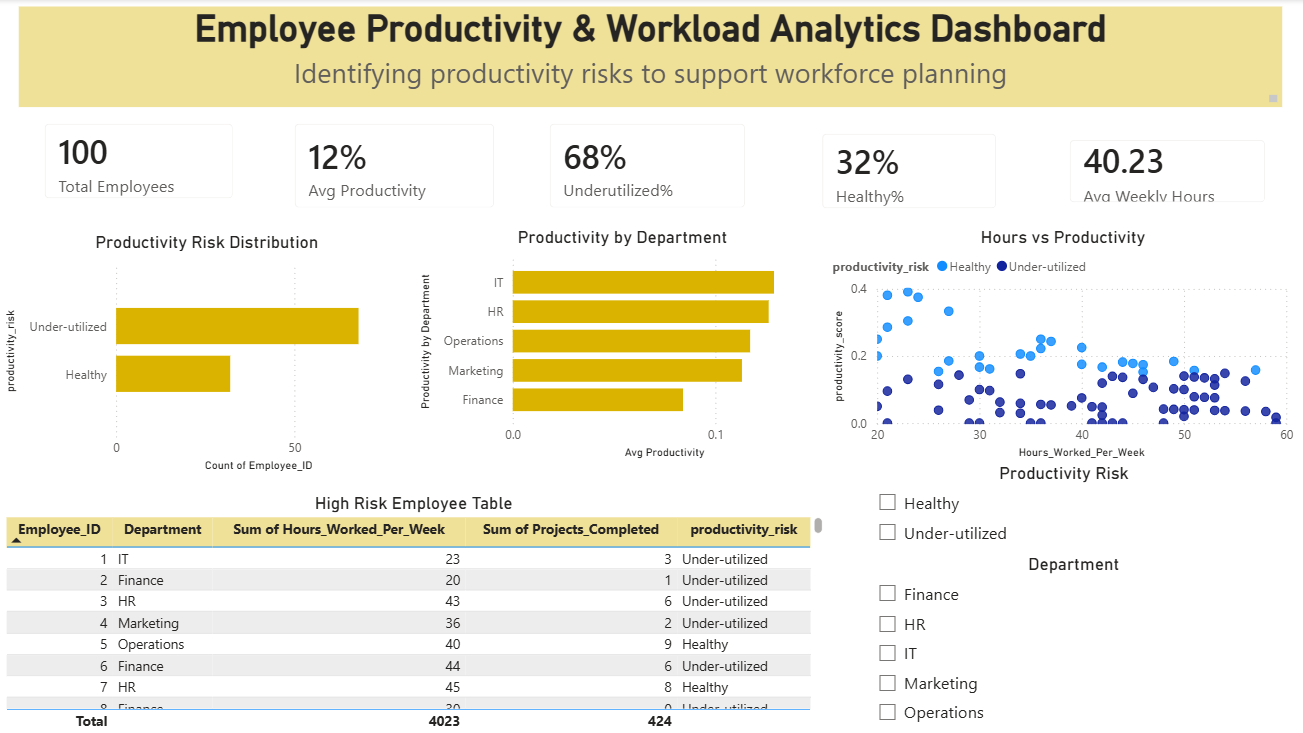

The page's visual inventory and layout, read from the dashboard file:
{"tool":"powerbi","page":{"name":"Page 1","canvas":[1280,720],"ordinal":0},"visuals":[{"type":"cardVisual","title":"Total Employees","fields":{"Data":["employee_productivity_cleaned.Total Employees"]},"box":[27.4,105.7,218.2,107],"z":0},{"type":"cardVisual","title":"Average Productivity","fields":{"Data":["employee_productivity_cleaned.Avg Productivity"]},"box":[271.7,105.7,229.2,116.6],"z":1000},{"type":"cardVisual","fields":{"Data":["employee_productivity_cleaned.Underutilized%"]},"box":[521.4,105.7,225,116.6],"z":2000},{"type":"cardVisual","fields":{"Data":["employee_productivity_cleaned.Overworked%"]},"box":[787.7,115.3,204.5,107],"z":3000},{"type":"cardVisual","fields":{"Data":["employee_productivity_cleaned.Avg Weekly Hours"]},"box":[1029.6,121.1,225,95.4],"z":4000},{"type":"barChart","title":"Productivity Risk Distribution","fields":{"Category":["employee_productivity_cleaned.productivity_risk"],"Y":["CountNonNull(employee_productivity_cleaned.Employee_ID)"]},"box":[0,222.3,404.8,244.3],"z":5000},{"type":"barChart","title":"Productivity by Department","fields":{"Category":["employee_productivity_cleaned.Department"],"Y":["employee_productivity_cleaned.Avg Productivity"]},"box":[406.2,222.3,406.2,231.9],"z":6000},{"type":"scatterChart","title":"Hours vs Productivity","fields":{"Series":["employee_productivity_cleaned.productivity_risk"],"X":["employee_productivity_cleaned.Hours_Worked_Per_Week"],"Y":["employee_productivity_cleaned.productivity_score"]},"box":[809.6,222.3,461.1,231.9],"z":7000},{"type":"tableEx","title":"High Risk Employee Table","fields":{"Values":["employee_productivity_cleaned.Employee_ID","employee_productivity_cleaned.Department","Sum(employee_productivity_cleaned.Hours_Worked_Per_Week)","Sum(employee_productivity_cleaned.Projects_Completed)","employee_productivity_cleaned.productivity_risk"]},"box":[0,483,809.6,237.4],"z":8000},{"type":"slicer","title":"Department","fields":{"Values":["employee_productivity_cleaned.Department"]},"box":[848,543.4,406.2,177],"z":9000},{"type":"slicer","title":"Productivity Risk","fields":{"Values":["employee_productivity_cleaned.productivity_risk"]},"box":[848,454.2,387,89.2],"z":10000},{"type":"textbox","title":"Employee Productivity & Workload Analytics Dashboard","box":[17.8,6.9,1236.4,98.8],"z":11000}]}

Visuals, with their boxes in screenshot pixels (x1, y1, x2, y2), scaled from the page's 1280x720 canvas onto the 1303x733 screenshot:
"Total Employees" cardVisual: [28,108,250,217]
"Average Productivity" cardVisual: [277,108,510,226]
cardVisual - employee_productivity_cleaned.Underutilized%: [531,108,760,226]
cardVisual - employee_productivity_cleaned.Overworked%: [802,117,1010,226]
cardVisual - employee_productivity_cleaned.Avg Weekly Hours: [1048,123,1277,220]
"Productivity Risk Distribution" barChart: [0,226,412,475]
"Productivity by Department" barChart: [413,226,827,462]
"Hours vs Productivity" scatterChart: [824,226,1294,462]
"High Risk Employee Table" tableEx: [0,492,824,732]
"Department" slicer: [863,553,1277,732]
"Productivity Risk" slicer: [863,462,1257,553]
"Employee Productivity & Workload Analytics Dashboard" textbox: [18,7,1277,108]
